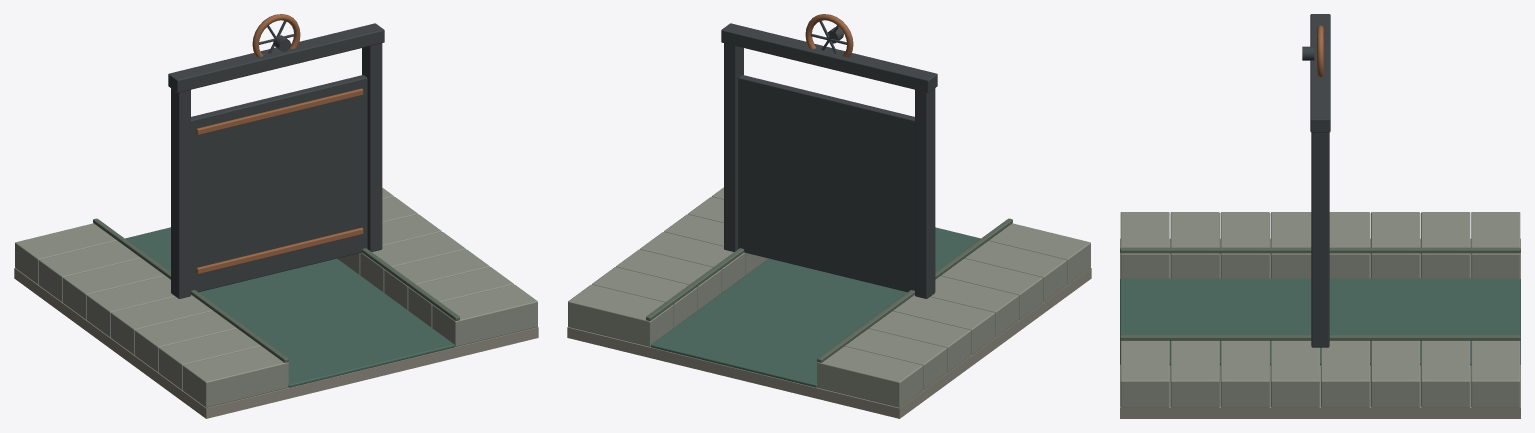
The model's file is undercity-sewers-and-thieves-den-sluice-gate-module-30930ec8__25013.glb.
3 views of the same model, side by side, from view 1: azimuth 30°, elevation 25°; view 2: azimuth 150°, elevation 25°; view 3: azimuth 270°, elevation 25° (orthographic). The views are drawn at different scales.
Visible parts, largest first — view 1: sluice-gate-module, sluice-leaf (×2); view 2: sluice-gate-module, sluice-leaf; view 3: sluice-gate-module.
Part boxes in pixels (x1,y1,x2,y2): sluice-gate-module: [14, 14, 538, 418]; sluice-leaf (×2): [191, 75, 367, 292]; sluice-gate-module: [567, 14, 1091, 418]; sluice-leaf: [738, 75, 914, 292]; sluice-gate-module: [1120, 14, 1520, 418].
Size of the model in its own units: 4 by 3.38 by 4.
